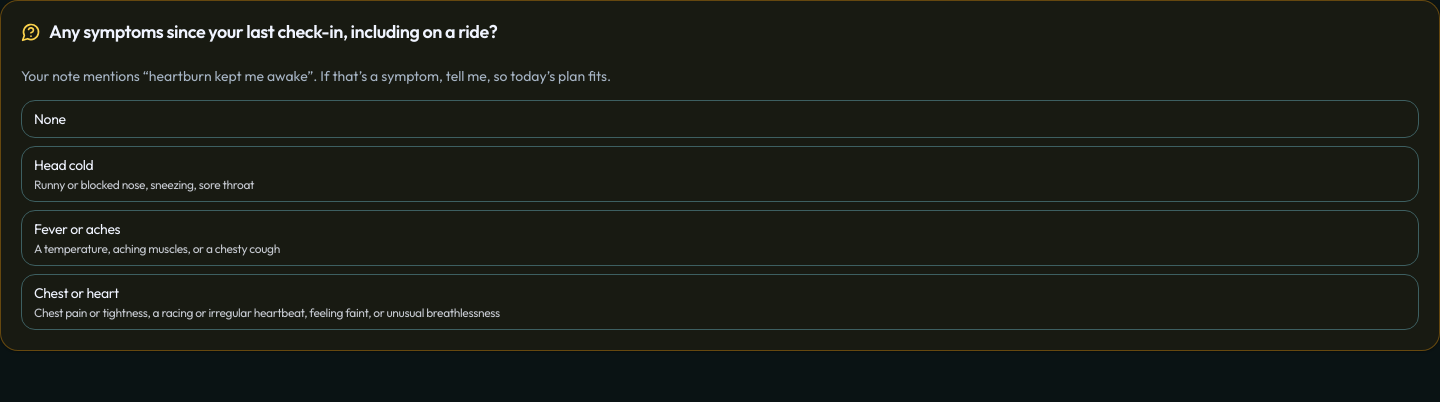
Test: notes ask card › records one tap as his answer, saves nothing else, and waits for the regraded morning
Click the button "None": point(50, 118) [21,100,1419,138]
Wait 15000 ms
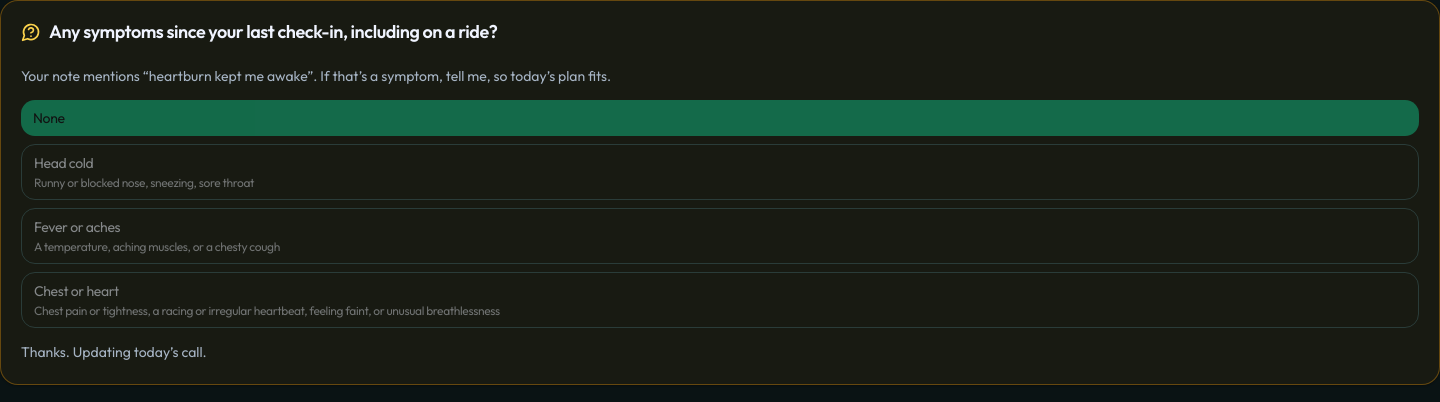
Expected: the text "Thanks. Updating today’s call." is shown, [21,342,207,360]
Expected: the button "None" is disabled, [21,100,1419,136]
Expected: the button "Head cold Runny or blocked nose, sneezing, sore throat" is disabled, [21,144,1419,200]
